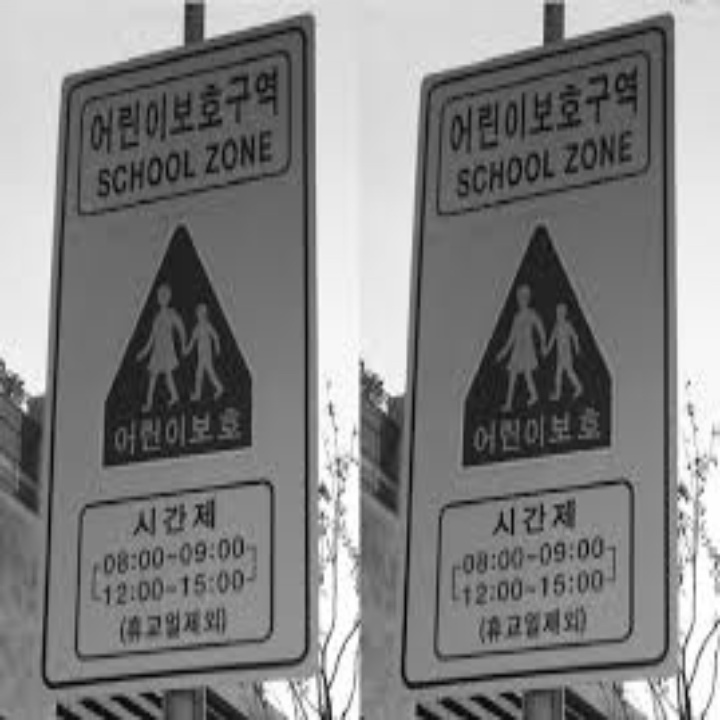child: (113, 264, 253, 411), (483, 262, 597, 417)
